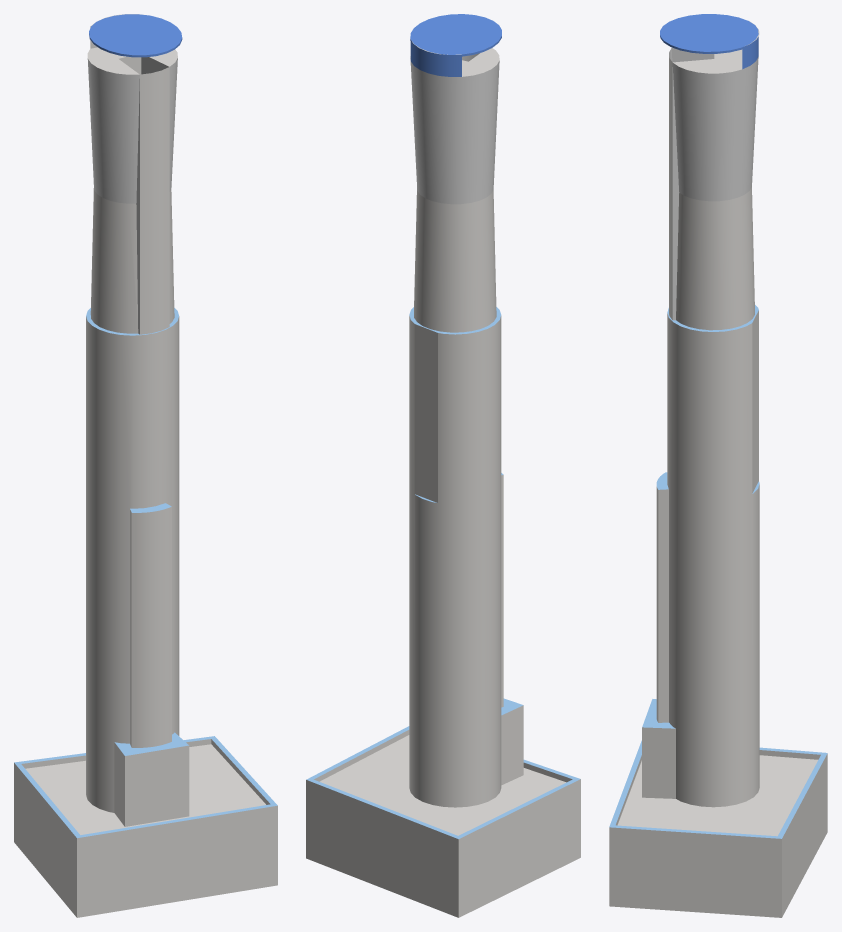
The picture shows the model from 3 angles, left to right: view 1: azimuth 30°, elevation 25°; view 2: azimuth 150°, elevation 25°; view 3: azimuth 270°, elevation 25°; orthographic projection.
Visible parts, largest first — view 1: Layer0_001; view 2: Layer0_001; view 3: Layer0_001.
Part boxes in pixels (x1,y1,x2,y2): Layer0_001: [14, 14, 277, 917]; Layer0_001: [306, 14, 580, 917]; Layer0_001: [609, 14, 827, 917].
Size of the model in its own units: 75358 by 289470 by 69186.
